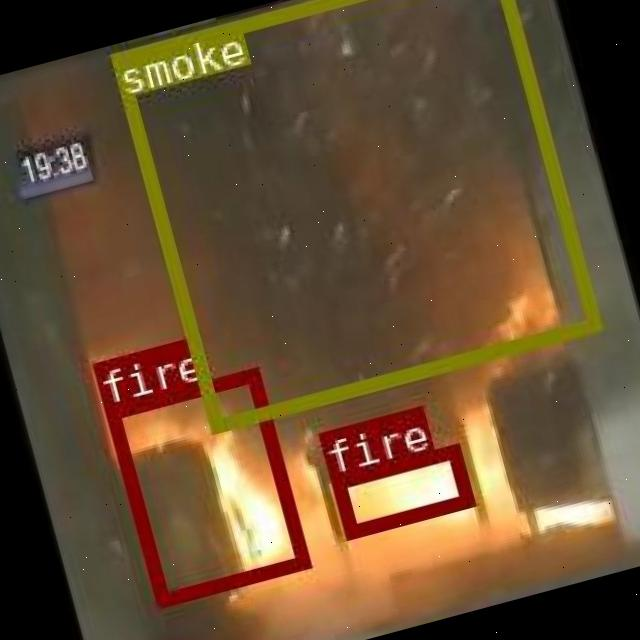fire: (101, 364, 306, 604), (328, 443, 472, 537)
smoke: (108, 0, 598, 430)
